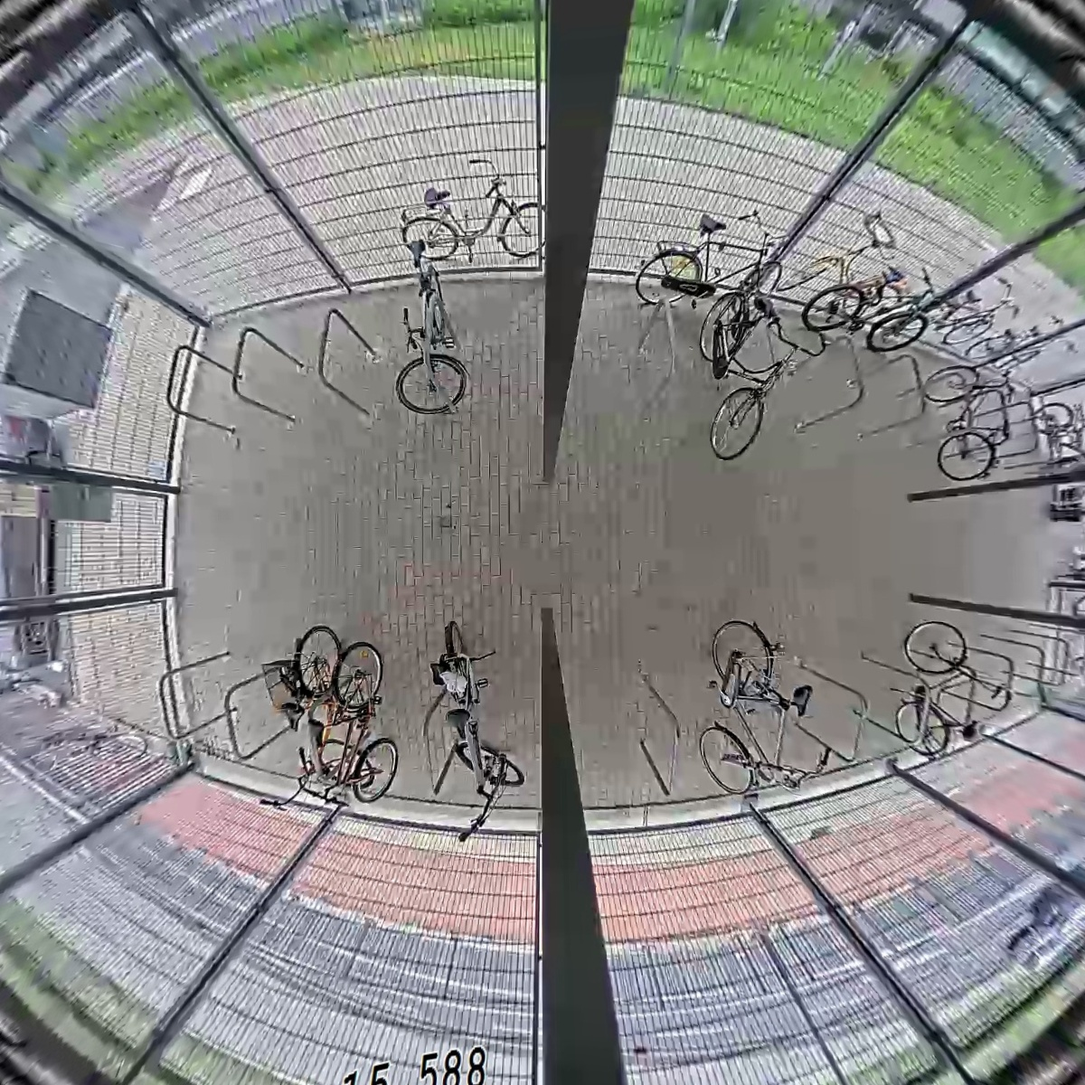bicylce: (256, 619, 377, 821), (692, 617, 817, 802), (416, 619, 523, 819), (692, 283, 808, 466), (297, 631, 404, 823), (633, 198, 788, 323), (388, 235, 478, 418), (893, 619, 1009, 759), (800, 259, 944, 359), (924, 359, 1019, 484)
saddle: (785, 681, 820, 719), (440, 706, 474, 741), (697, 206, 728, 237), (401, 236, 429, 267), (304, 716, 327, 753), (754, 288, 777, 322), (277, 701, 302, 732), (961, 717, 983, 745), (879, 268, 903, 287), (999, 417, 1015, 440)
